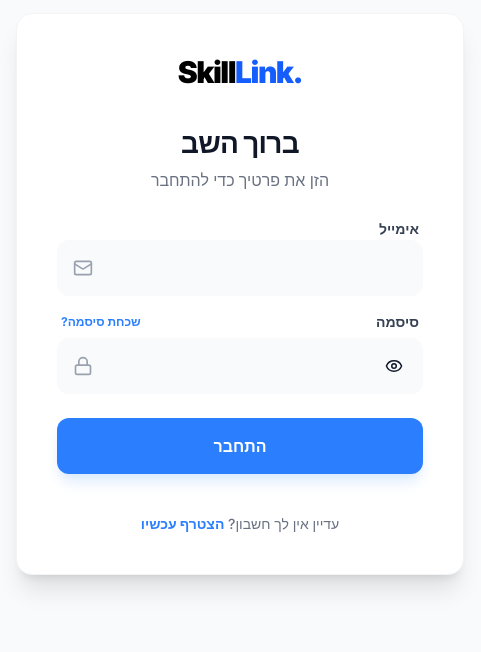
Test: Auth — login › asks for an email before sending a password reset
Click the button "שכחת סיסמה?" at point(101, 322), box [61, 314, 141, 330]
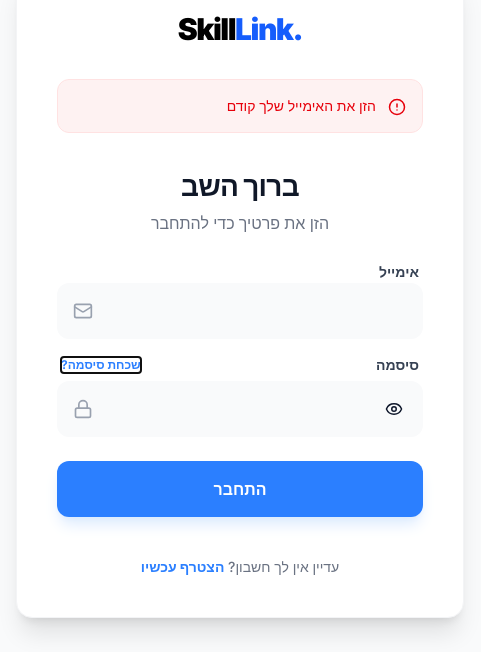
Expected: the text "הזן את האימייל שלך קודם" is shown, [227, 96, 376, 116]
